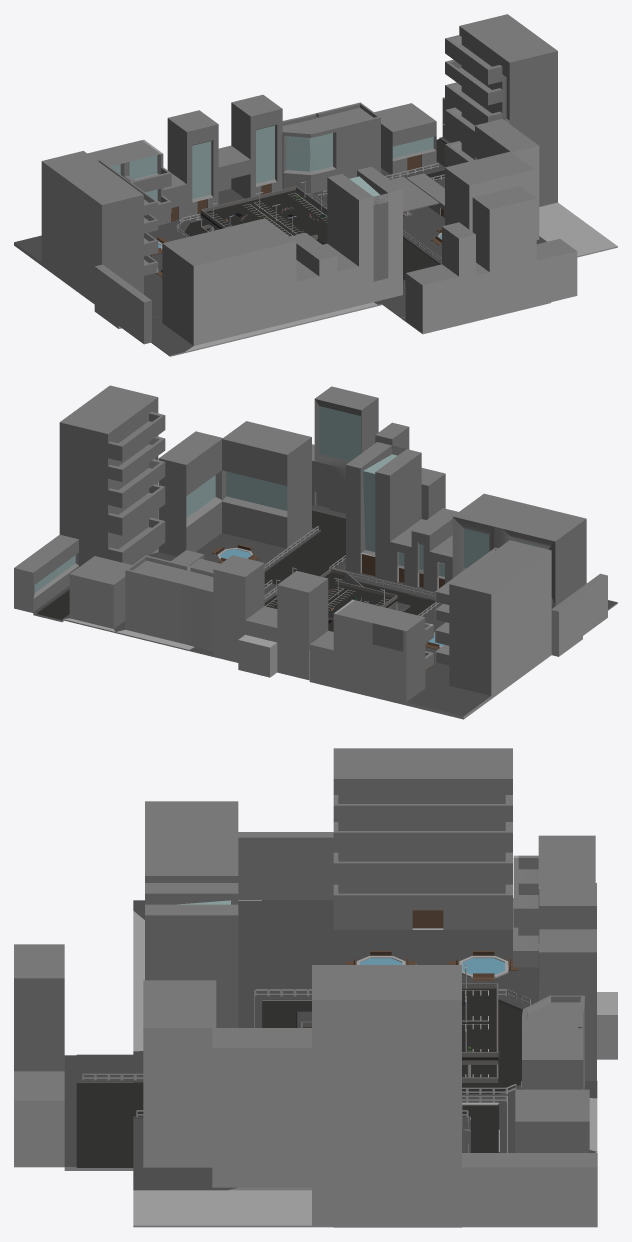
The model's file is Level1_Refs 1.fbx.
3 views of the same model, one above another, from view 1: azimuth 30°, elevation 25°; view 2: azimuth 150°, elevation 25°; view 3: azimuth 270°, elevation 25° (orthographic). The views are drawn at different scales.
Parts seen in each view (by area): view 1: polySurface294, polySurface293, polySurface295, polySurface455, polySurface281, Slots; view 2: polySurface294, polySurface293, polySurface295, polySurface455; view 3: polySurface294, polySurface293, polySurface295, polySurface455, polySurface289.
Part boxes in pixels (left/top/right/bottom): polySurface294: left=14, top=14, right=617, bottom=344; polySurface293: left=151, top=166, right=577, bottom=356; polySurface295: left=167, top=94, right=282, bottom=218; polySurface455: left=200, top=190, right=327, bottom=237; polySurface281: left=390, top=176, right=439, bottom=212; Slots: left=209, top=193, right=327, bottom=236; polySurface294: left=14, top=385, right=607, bottom=719; polySurface293: left=264, top=386, right=617, bottom=611; polySurface295: left=213, top=555, right=328, bottom=680; polySurface455: left=264, top=581, right=397, bottom=631; polySurface294: left=133, top=748, right=597, bottom=1227; polySurface293: left=14, top=801, right=498, bottom=1170; polySurface295: left=539, top=883, right=617, bottom=1080; polySurface455: left=462, top=988, right=498, bottom=1060; polySurface289: left=459, top=956, right=508, bottom=978.
Size of the model in its own units: 477 by 156 by 367.
Materials: 15 (3 with a texture image).
